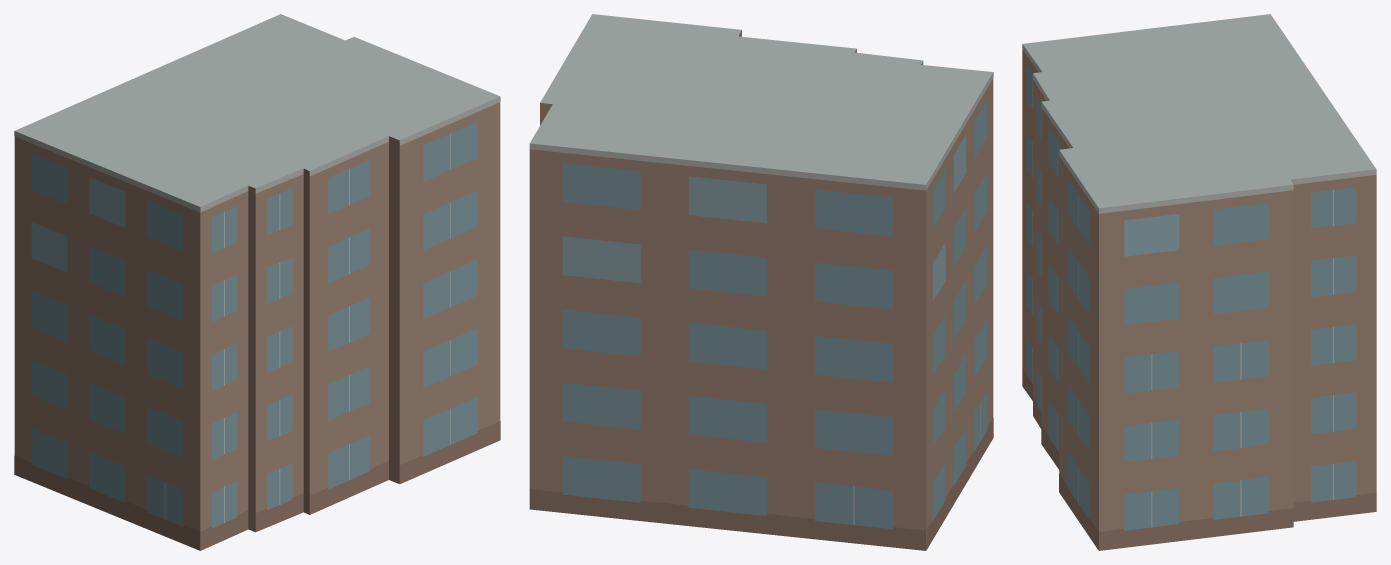
The model's file is survey-upis-32681767.glb.
3 views of the same model, side by side, from view 1: azimuth 30°, elevation 25°; view 2: azimuth 150°, elevation 25°; view 3: azimuth 270°, elevation 25° (orthographic). The views are drawn at different scales.
Parts seen in each view (by area): view 1: survey-upis-32681767.tmp; view 2: survey-upis-32681767.tmp; view 3: survey-upis-32681767.tmp.
Part boxes in pixels (x1=…): survey-upis-32681767.tmp: x1=14, y1=14, x2=500, y2=550; survey-upis-32681767.tmp: x1=529, y1=14, x2=993, y2=550; survey-upis-32681767.tmp: x1=1022, y1=14, x2=1376, y2=550.
Size of the model in its own units: 18.57 by 15.25 by 14.3.
